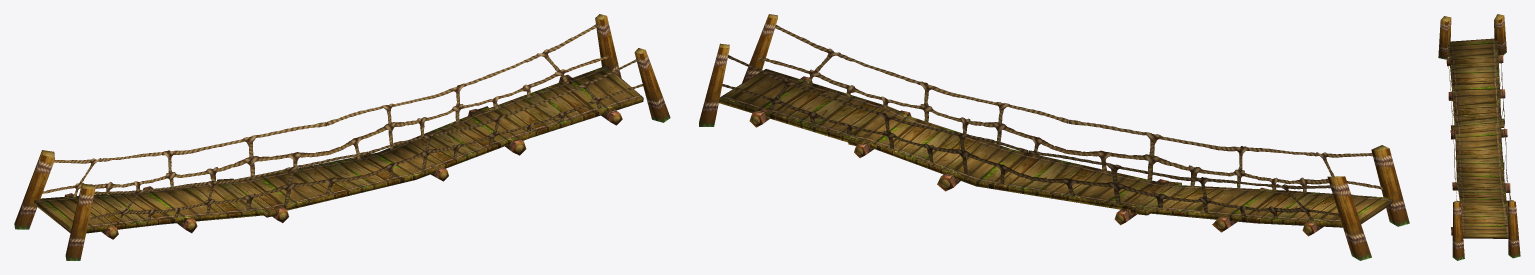
The model's file is environment_common_diaoqiao_002_a.FBX.
3 views of the same model, side by side, from view 1: azimuth 30°, elevation 25°; view 2: azimuth 150°, elevation 25°; view 3: azimuth 270°, elevation 25° (orthographic). The views are drawn at different scales.
Parts seen in each view (by area): view 1: environment_common_diaoqiao_002_a, environment_common_diaoqiao_002_b; view 2: environment_common_diaoqiao_002_a, environment_common_diaoqiao_002_b; view 3: environment_common_diaoqiao_002_a, environment_common_diaoqiao_002_b.
Part boxes in pixels (left/top/right/bottom): environment_common_diaoqiao_002_a: left=14, top=14, right=670, bottom=260; environment_common_diaoqiao_002_b: left=42, top=24, right=642, bottom=224; environment_common_diaoqiao_002_a: left=699, top=14, right=1409, bottom=260; environment_common_diaoqiao_002_b: left=722, top=25, right=1383, bottom=220; environment_common_diaoqiao_002_a: left=1438, top=14, right=1520, bottom=260; environment_common_diaoqiao_002_b: left=1445, top=24, right=1511, bottom=224.
Bounding box in the file's own units: 461 × 67.83 × 80.46.
